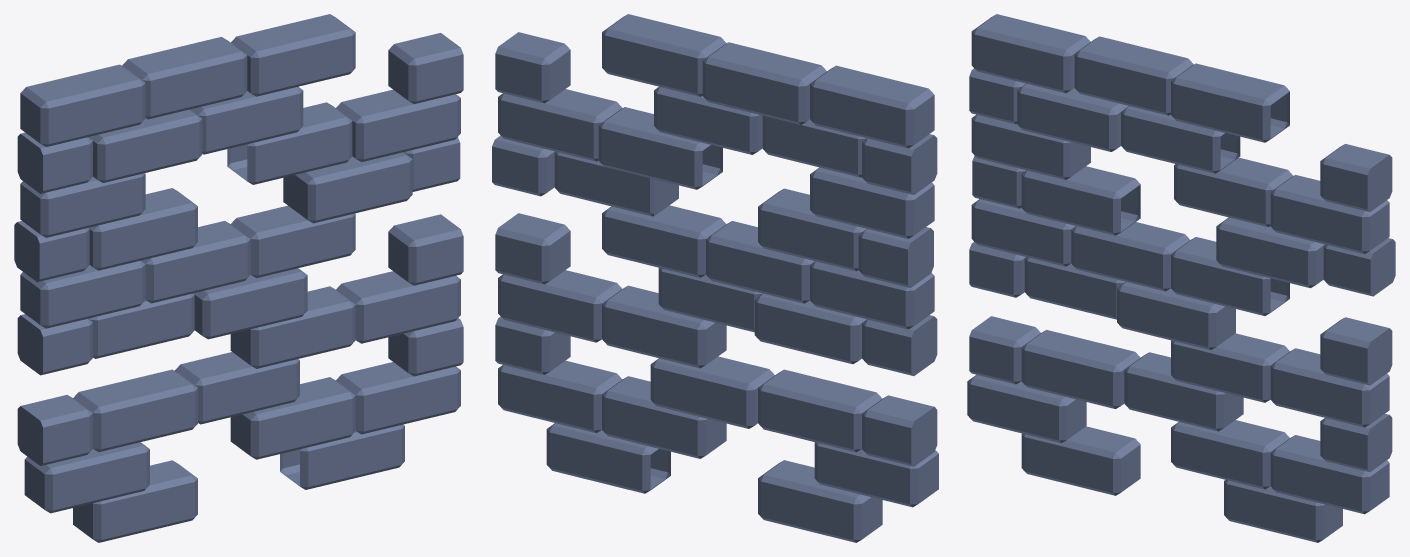
File: n2_brick_wall_lev2.011.glb
The picture shows the model from 3 angles, left to right: view 1: azimuth 30°, elevation 25°; view 2: azimuth 150°, elevation 25°; view 3: azimuth 330°, elevation 25°; orthographic projection. The views are drawn at different scales.
Parts seen in each view (by area): view 1: n2_brick_wall_lev2.011; view 2: n2_brick_wall_lev2.011; view 3: n2_brick_wall_lev2.011.
Boxes of the visible parts, left/top/right/bottom form: n2_brick_wall_lev2.011: left=14, top=14, right=463, bottom=542; n2_brick_wall_lev2.011: left=492, top=14, right=938, bottom=542; n2_brick_wall_lev2.011: left=967, top=14, right=1395, bottom=542.
Size of the model in its own units: 12.62 by 13.06 by 1.81.
